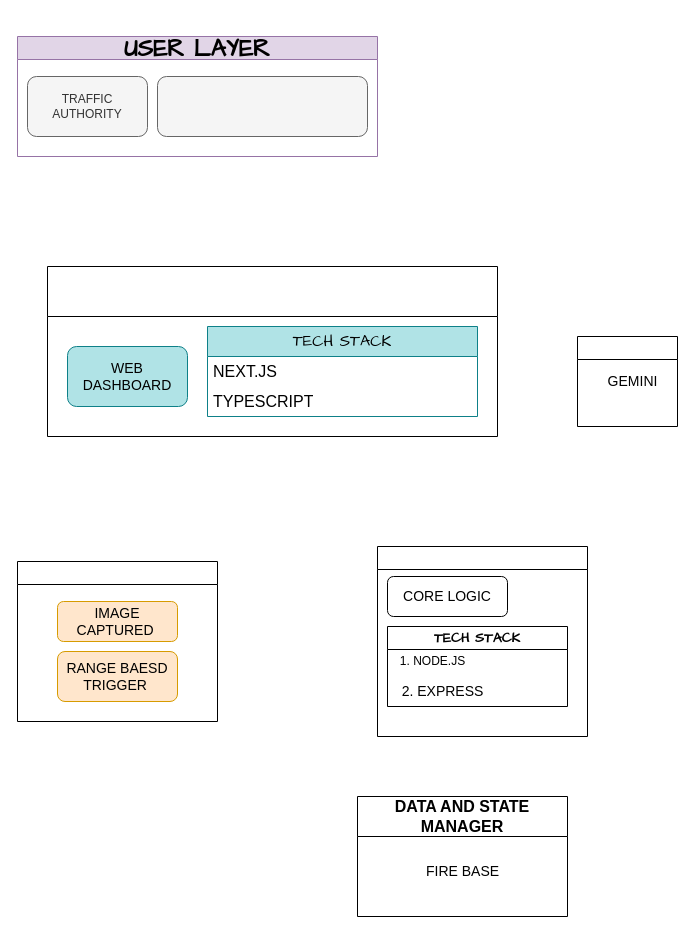
Image size: 695x934. Some labels were removed from this diagram. The box of each missing label's shape, as (x1, y1, x2, y2) in pixels:
AI/ML: (576, 336, 678, 426)
BACKEND: (376, 546, 588, 736)
FRONTEND LAYER: (46, 266, 498, 436)
INPUT: (16, 560, 218, 722)
SYSTEM (AUTOMATED CONTROLLER): (156, 76, 368, 136)
